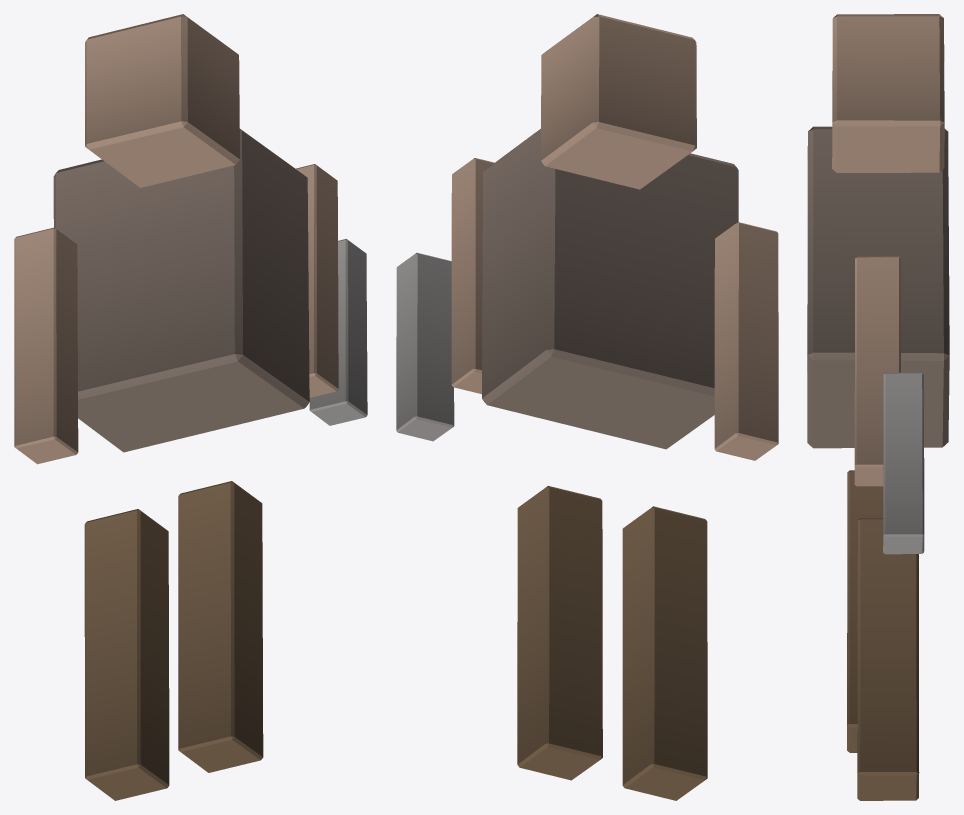
The model's file is npc_blacksmith.glb.
3 renders of one model, left to right at view 1: azimuth 30°, elevation 25°; view 2: azimuth 150°, elevation 25°; view 3: azimuth 270°, elevation 25°, orthographic.
Visible parts, largest first — view 1: Torso, LegR, LegL, Head, ArmL, ArmR, Hammer; view 2: Torso, LegR, LegL, Head, ArmL, Hammer, ArmR; view 3: Torso, Head, LegR, ArmR, Hammer, LegL.
Part boxes in pixels (bbox=[...]): Torso: bbox=[53, 128, 309, 452]; LegR: bbox=[178, 481, 263, 772]; LegL: bbox=[84, 509, 169, 800]; Head: bbox=[85, 14, 239, 187]; ArmL: bbox=[14, 227, 78, 464]; ArmR: bbox=[296, 164, 338, 397]; Hammer: bbox=[309, 239, 367, 425]; Torso: bbox=[482, 129, 738, 449]; LegR: bbox=[517, 486, 602, 780]; LegL: bbox=[622, 506, 707, 800]; Head: bbox=[541, 14, 696, 189]; ArmL: bbox=[714, 222, 778, 460]; Hammer: bbox=[396, 252, 454, 441]; ArmR: bbox=[451, 158, 494, 394]; Torso: bbox=[807, 126, 949, 448]; Head: bbox=[832, 14, 944, 172]; LegR: bbox=[857, 518, 919, 800]; ArmR: bbox=[854, 256, 900, 486]; Hammer: bbox=[883, 372, 924, 554]; LegL: bbox=[847, 470, 883, 752].
Bounding box in the file's own units: 0.7716 × 1.55 × 0.2761.
